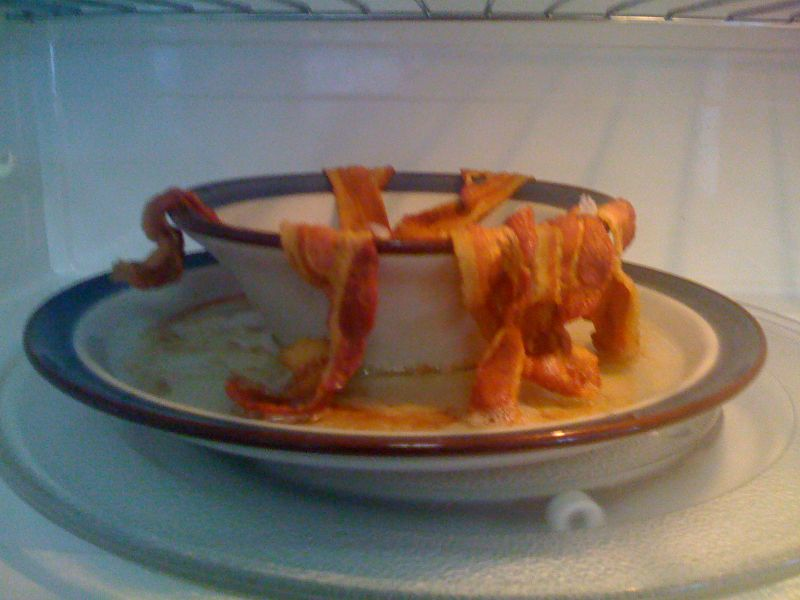bacon: (415, 187, 665, 396), (231, 210, 388, 437)
